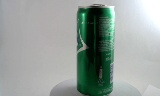sprite: (70, 4, 108, 95)
